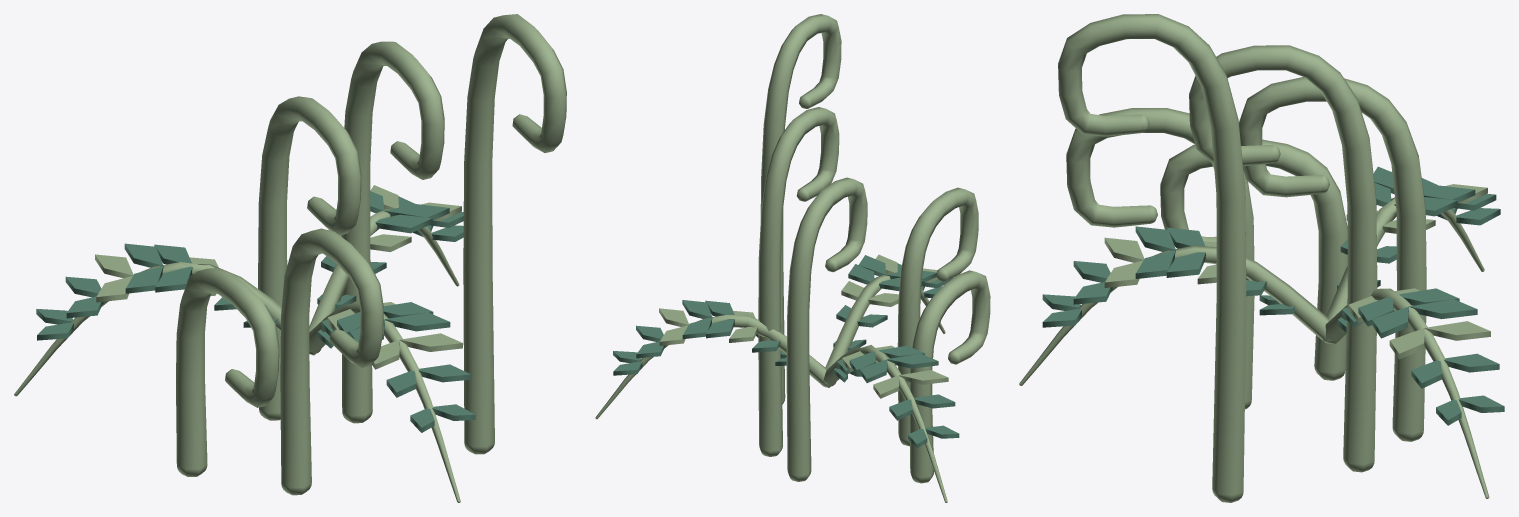
Rendered from fiddlehead_cluster.glb.
3 views of the same model, side by side, from view 1: azimuth 30°, elevation 25°; view 2: azimuth 150°, elevation 25°; view 3: azimuth 270°, elevation 25° (orthographic). The views are drawn at different scales.
Visible parts, largest first — view 1: fiddlehead-cluster; view 2: fiddlehead-cluster; view 3: fiddlehead-cluster.
Part boxes in pixels (bbox=[...]): fiddlehead-cluster: bbox=[14, 14, 566, 502]; fiddlehead-cluster: bbox=[595, 14, 990, 502]; fiddlehead-cluster: bbox=[1019, 14, 1504, 502].
Bounding box in the file's own units: 1.05 × 1.04 × 0.9399.
